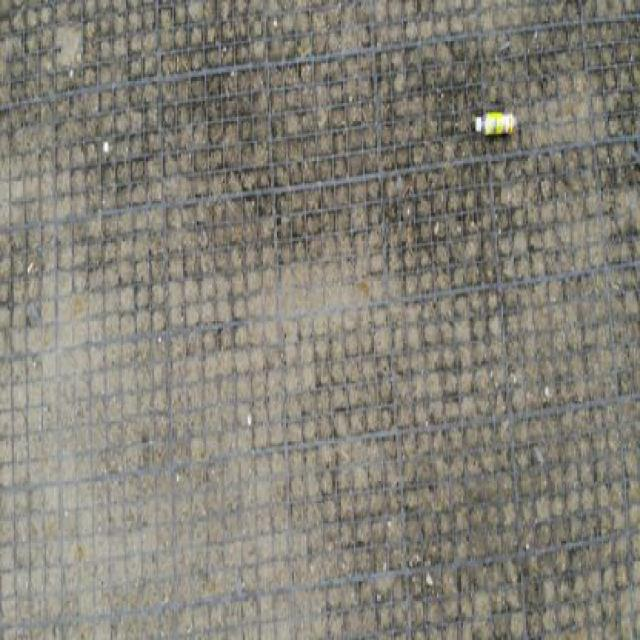Garbage: (474, 111, 517, 137), (104, 140, 109, 152)
